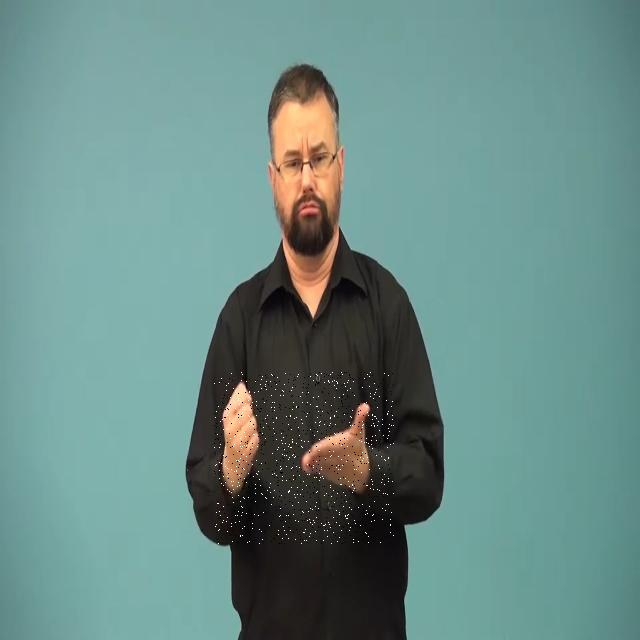credit card: (214, 372, 394, 544)
